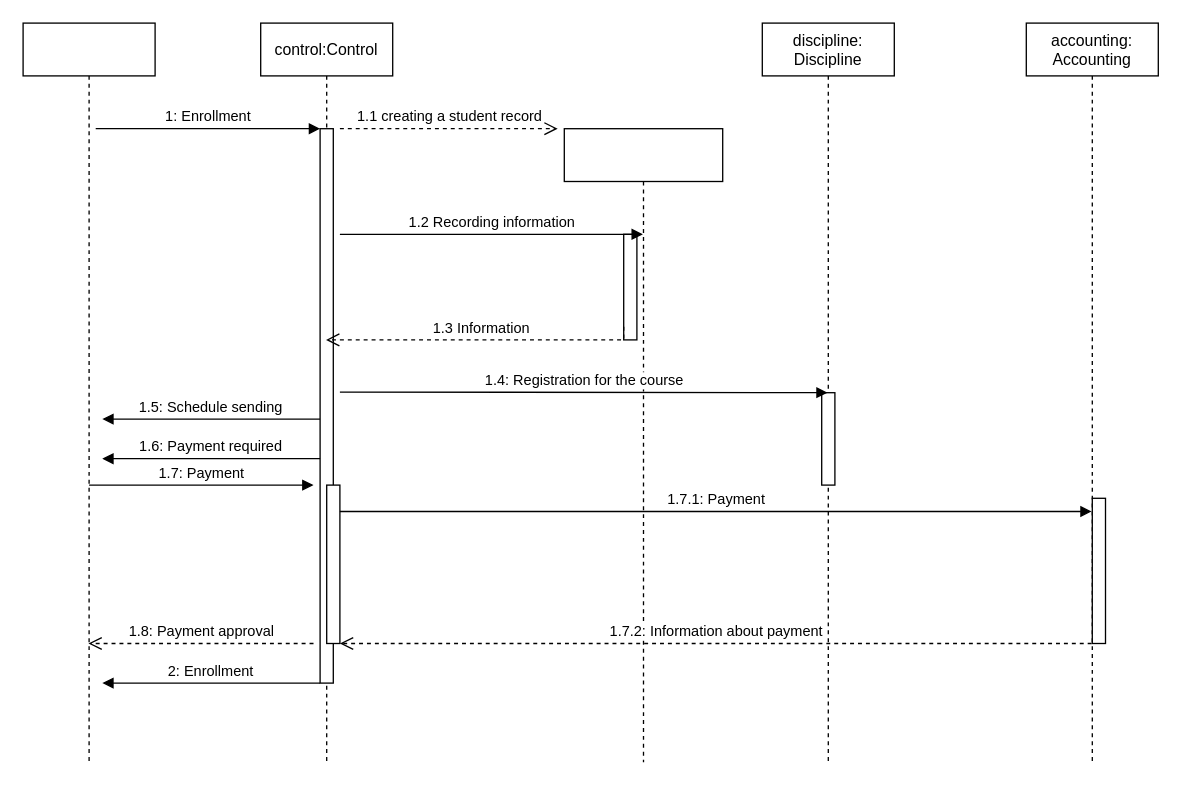
Image size: 1181x785. Some labels were removed from this diagram. The box of each missing label's shape, as (x1, y1, x2, y2) in pixels:
student: Student: (563, 127, 723, 762)
Student:Student: (22, 22, 155, 762)
